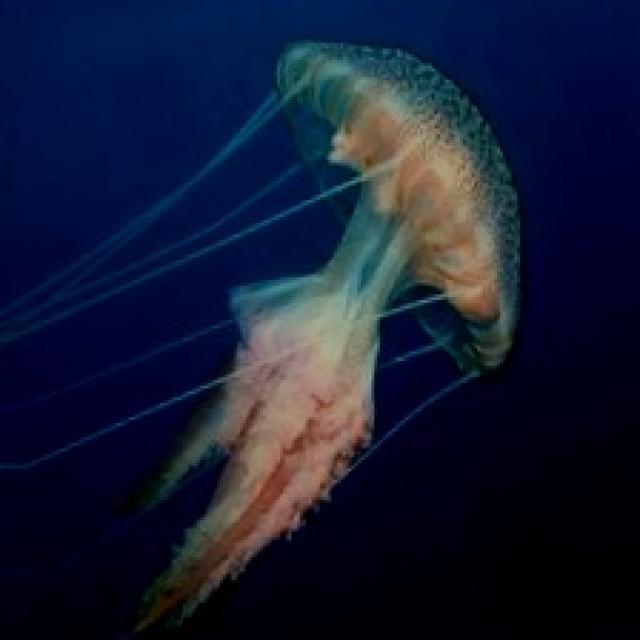Moon-jellyfish: (0, 34, 523, 637)
